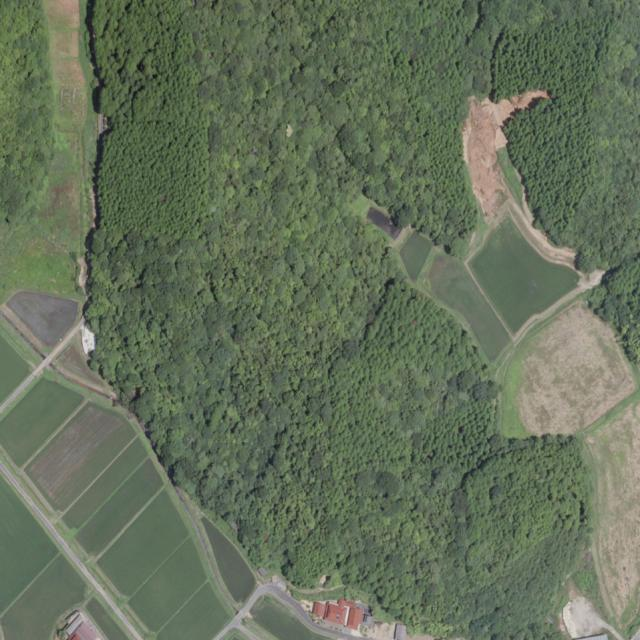landslide: (464, 90, 550, 218)
